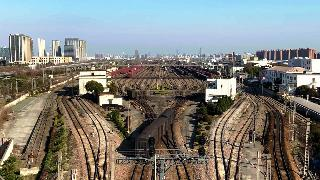train: (134, 108, 175, 158), (127, 89, 137, 98)
